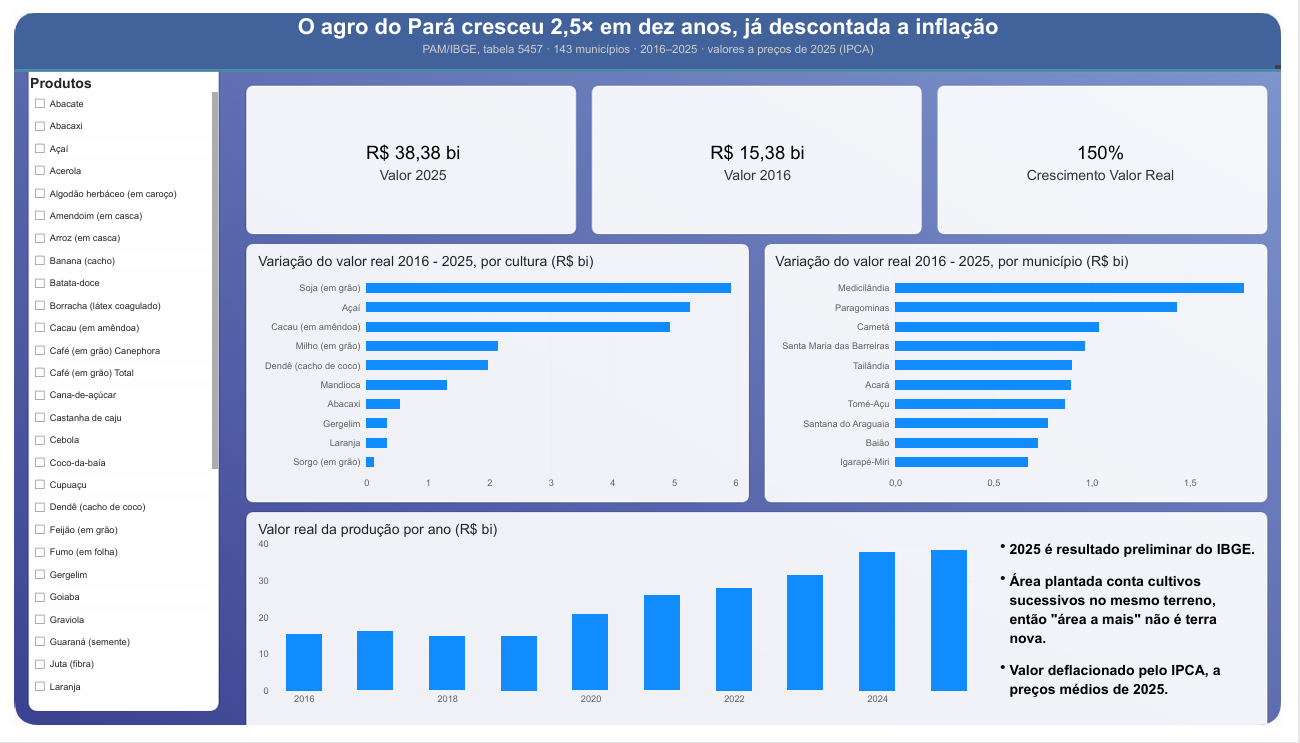

The dashboard page shown, as its layout file describes it:
{"tool":"powerbi","page":{"name":"Página 2","canvas":[1920,1080],"ordinal":0},"visuals":[{"type":"card","fields":{"Values":["fProducao.Valor 2016"]},"box":[874.7,108,502.7,229.3],"z":0},{"type":"card","fields":{"Values":["fProducao.Valor 2025 texto"]},"box":[352.7,108,502.7,229.3],"z":1},{"type":"card","fields":{"Values":["fProducao.Crescimento Valor Real"]},"box":[1394.7,108,502.7,229.3],"z":2},{"type":"textbox","title":"O agro do Pará cresceu 2,5× em dez anos, já descontada a inflação","box":[0,0,1920,82.7],"z":3},{"type":"barChart","title":"Variação do valor real 2016 - 2025, por cultura (R$ bi)","fields":{"Category":["dCultura.produto"],"Y":["fProducao.Variacao bi"]},"box":[353.3,349.3,760,389.3],"z":4},{"type":"barChart","title":"Variação do valor real 2016 - 2025, por município (R$ bi)","fields":{"Category":["dMunicipio.municipio"],"Y":["fProducao.Variacao bi"]},"box":[1137.3,349.3,760,389.3],"z":5},{"type":"clusteredColumnChart","title":"Valor real da produção por ano (R$ bi)","fields":{"Category":["dTempo.ano"],"Y":["fProducao.Valor Real bi"]},"box":[353.3,754.7,1122.7,312],"z":6},{"type":"slicer","title":"Produtos","fields":{"Values":["dCultura.produto"]},"box":[22.7,93.3,285.3,950.7],"z":7},{"type":"textbox","box":[1476,796,406.7,270.7],"z":9}]}

Visuals, with their boxes in screenshot pixels (x1, y1, x2, y2), scaled from the page's 1920x1080 canvas onto the 1300x743 screenshot:
card - fProducao.Valor 2016: x1=592, y1=74, x2=933, y2=232
card - fProducao.Valor 2025 texto: x1=239, y1=74, x2=579, y2=232
card - fProducao.Crescimento Valor Real: x1=944, y1=74, x2=1285, y2=232
"O agro do Pará cresceu 2,5× em dez anos, já descontada a inflação" textbox: x1=0, y1=0, x2=1299, y2=57
"Variação do valor real 2016 - 2025, por cultura (R$ bi)" barChart: x1=239, y1=240, x2=754, y2=508
"Variação do valor real 2016 - 2025, por município (R$ bi)" barChart: x1=770, y1=240, x2=1285, y2=508
"Valor real da produção por ano (R$ bi)" clusteredColumnChart: x1=239, y1=519, x2=999, y2=734
"Produtos" slicer: x1=15, y1=64, x2=209, y2=718
textbox: x1=999, y1=548, x2=1275, y2=734
